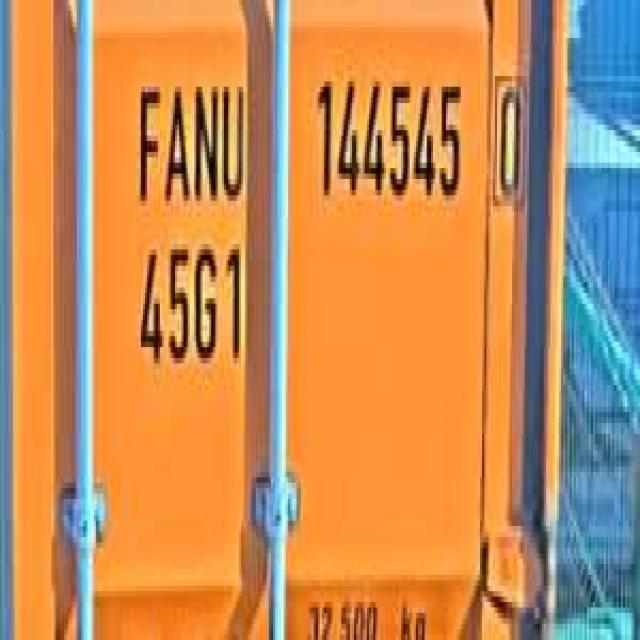dv: (486, 60, 530, 214)
owner: (128, 65, 247, 212)
serial: (307, 54, 465, 217)
size: (132, 228, 250, 380)
